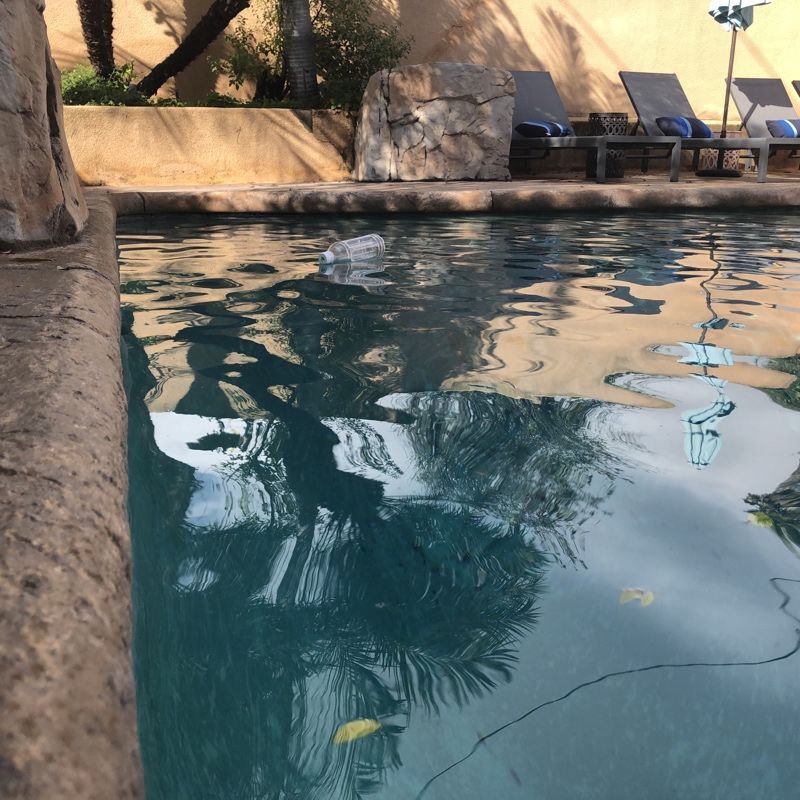Plastic Bottle: (314, 232, 390, 269)
